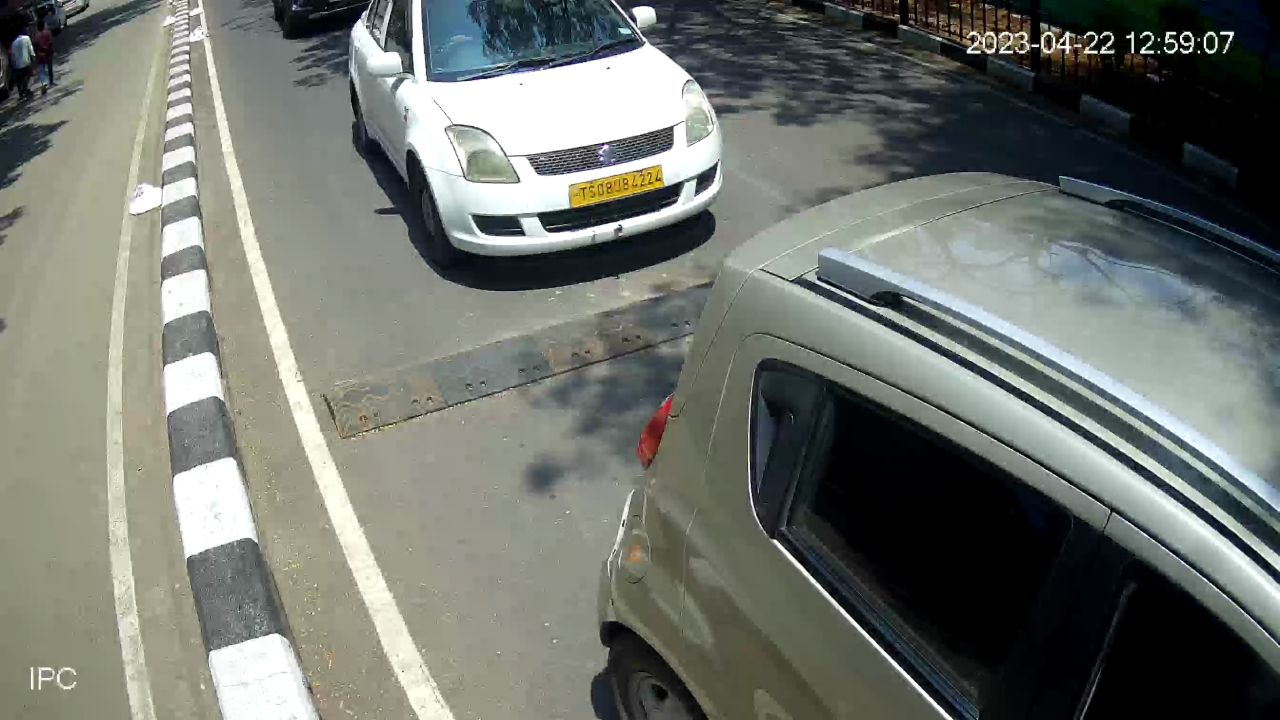license_plate: (564, 161, 668, 213)
